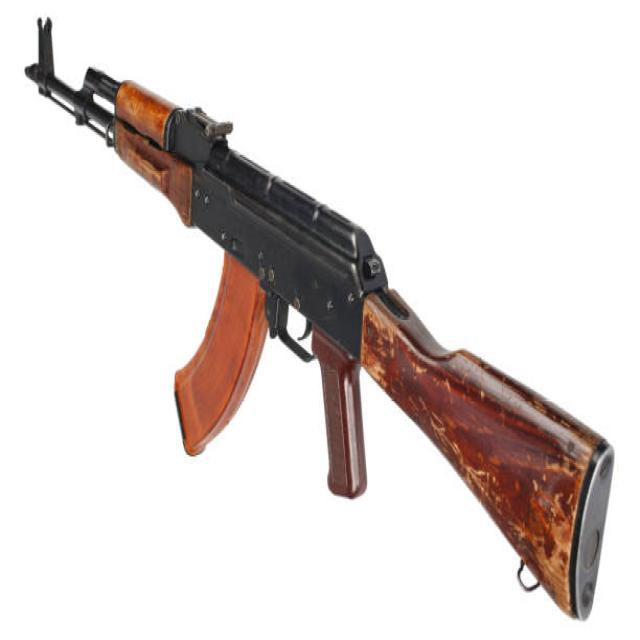rifle: (11, 6, 620, 633)
